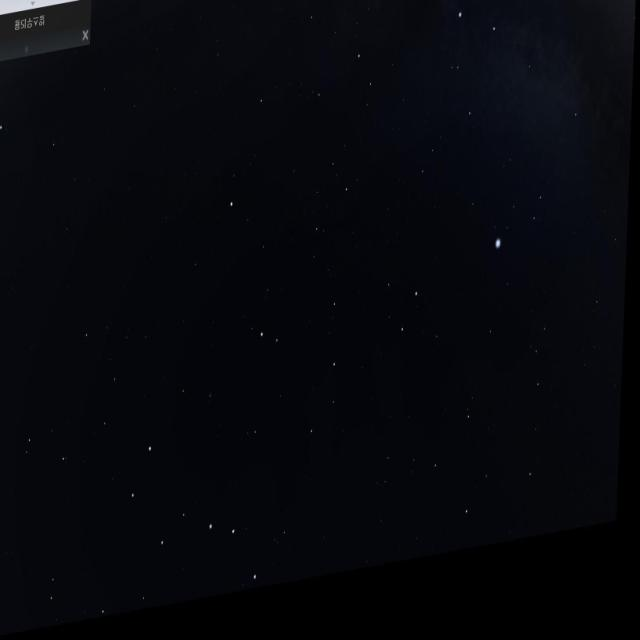cygnus: (443, 0, 599, 173)
lyra: (498, 200, 550, 265)
ursa_major: (126, 426, 278, 614)
